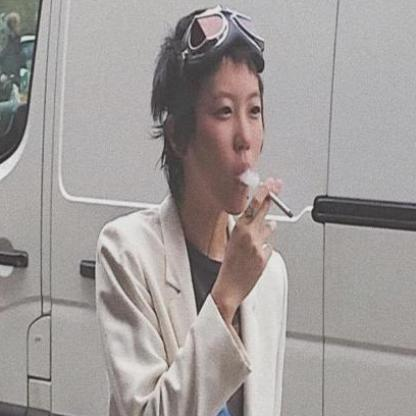cigarette: (266, 188, 295, 224)
person: (92, 2, 289, 415)
